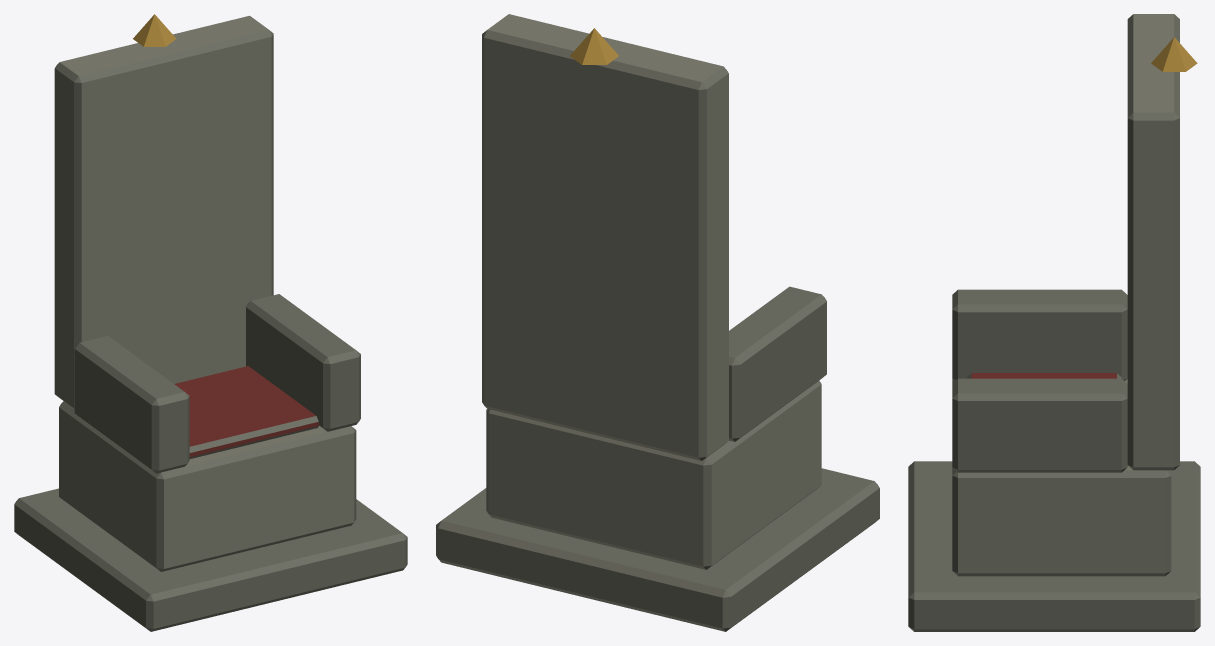
File: throne_2.glb
The picture shows the model from 3 angles, left to right: view 1: azimuth 30°, elevation 25°; view 2: azimuth 150°, elevation 25°; view 3: azimuth 270°, elevation 25°; orthographic projection. The views are drawn at different scales.
Parts seen in each view (by area): view 1: Throne_2; view 2: Throne_2; view 3: Throne_2.
Boxes of the visible parts, bbox=[...] form: Throne_2: bbox=[14, 14, 407, 631]; Throne_2: bbox=[436, 14, 879, 631]; Throne_2: bbox=[908, 14, 1200, 631].
Bounding box in the file's own units: 1.1 × 2 × 1.
